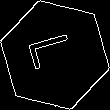L_E: (26, 33, 84, 77)
